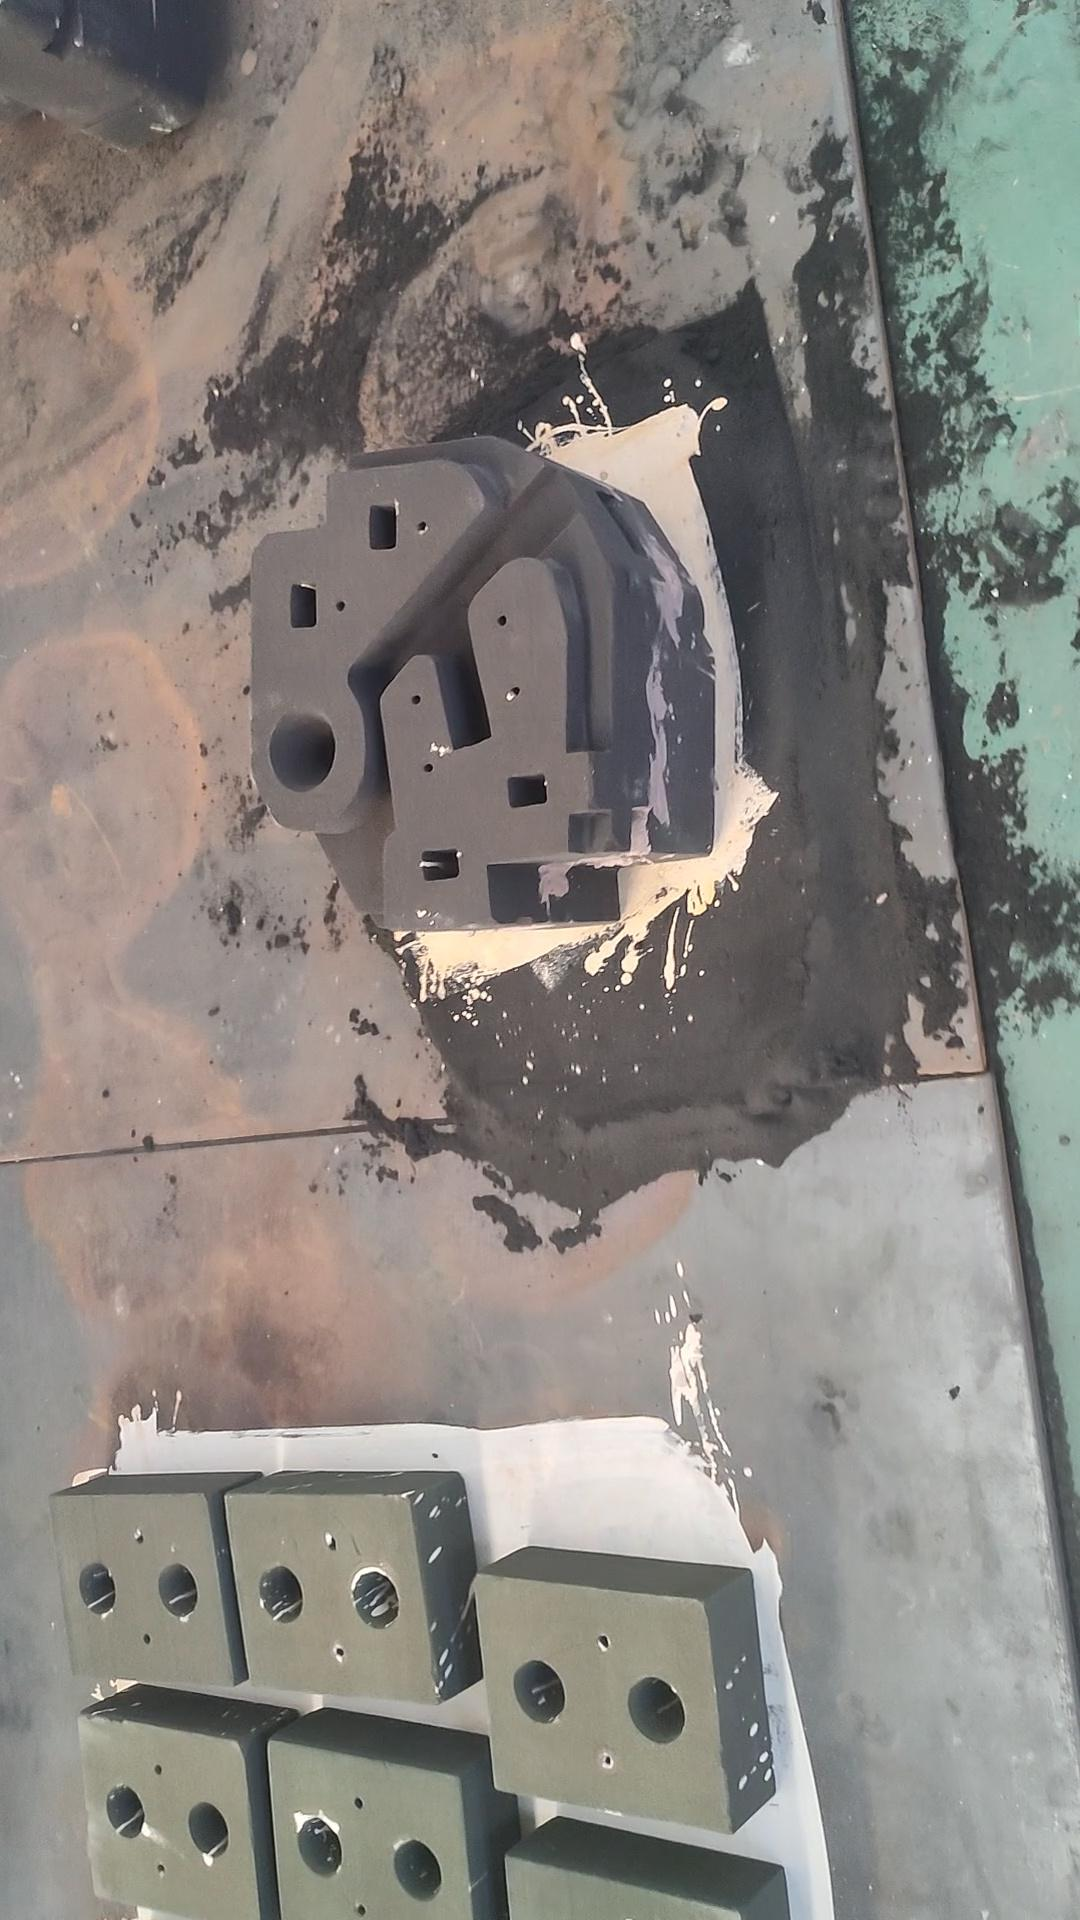pouring hole: (266, 708, 338, 793), (628, 1677, 684, 1743), (512, 1659, 564, 1724), (392, 1840, 442, 1902), (351, 1565, 400, 1629), (297, 1816, 344, 1876), (258, 1565, 303, 1625), (157, 1563, 199, 1618), (187, 1803, 229, 1855), (76, 1561, 116, 1615), (105, 1785, 144, 1837)
